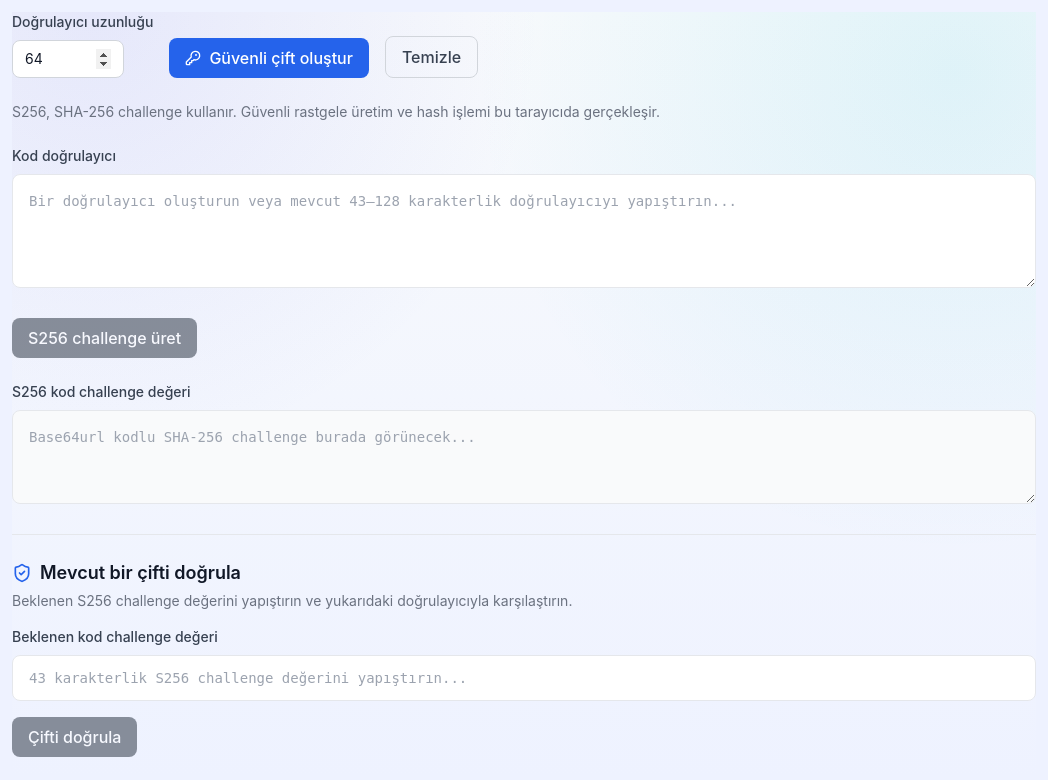
Test: PkceGeneratorTool async operations › uses the selected locale for controls and validation feedback
Replace the text in the text box labelled "Kod doğrulayıcı" with "çok-kısa". click: [524, 231]
box: top-left (12, 174), bottom-right (1036, 288)
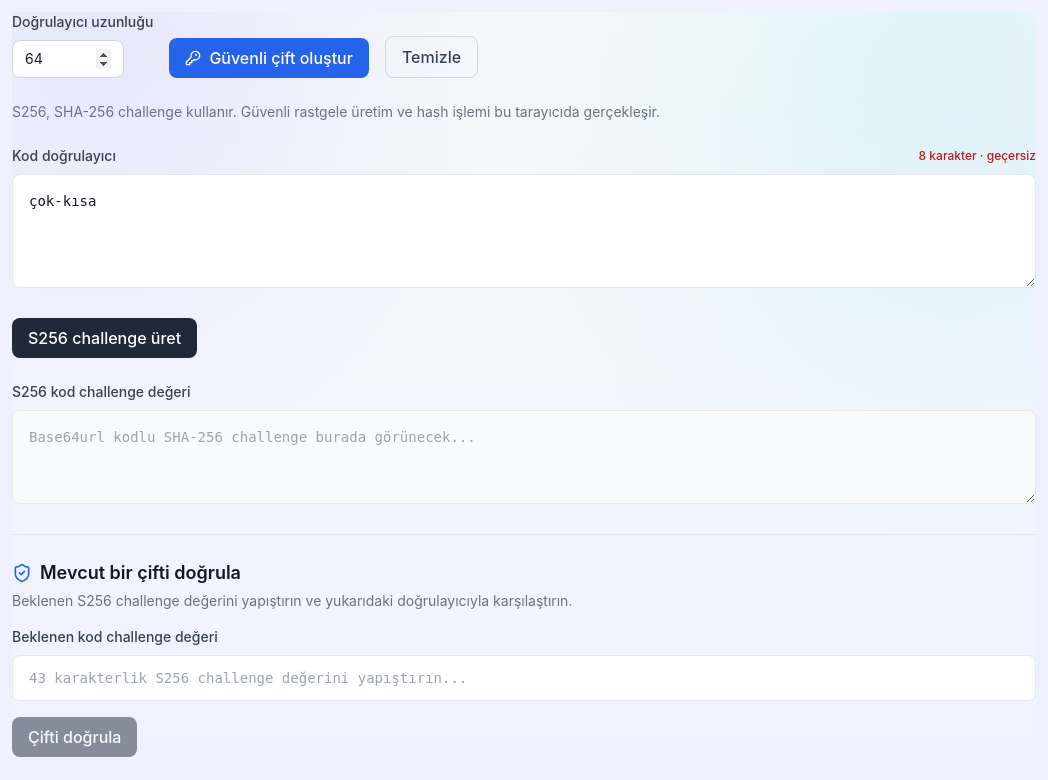
Click the button "S256 challenge üret". click: [105, 338]
box: top-left (12, 318), bottom-right (197, 358)
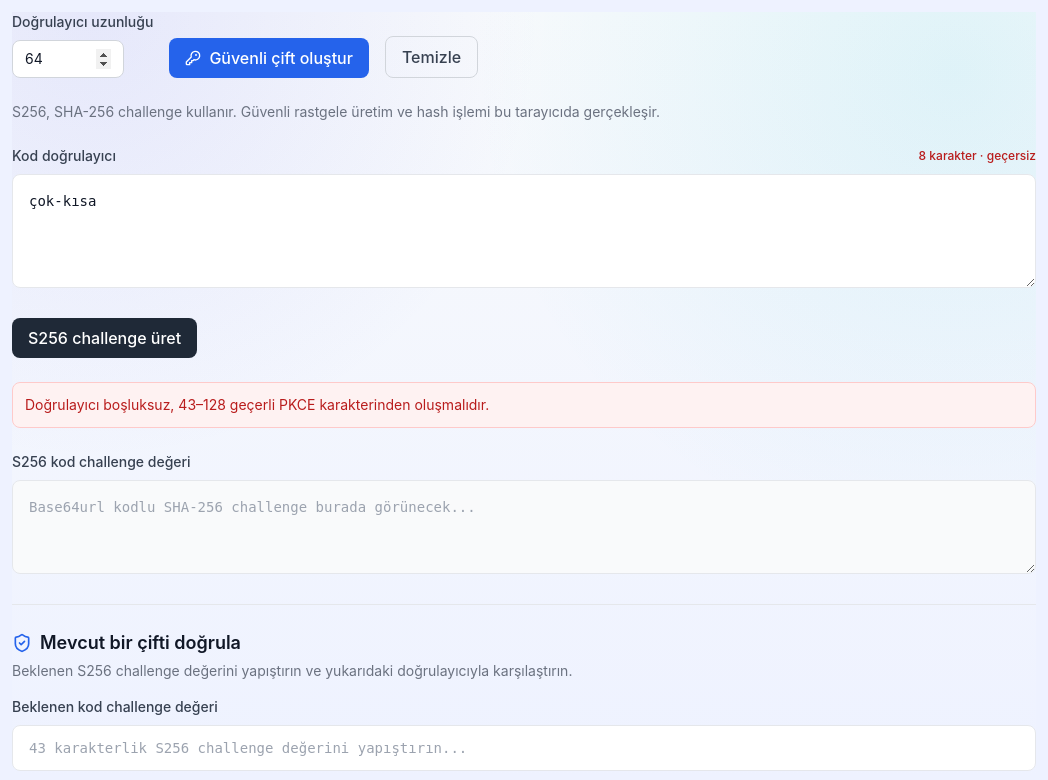
expect the message reads "Doğrulayıcı boşluksuz, 43–128 geçerli PKCE karakterinden oluşmalıdır.": met, box top-left (25, 396), bottom-right (489, 413)
